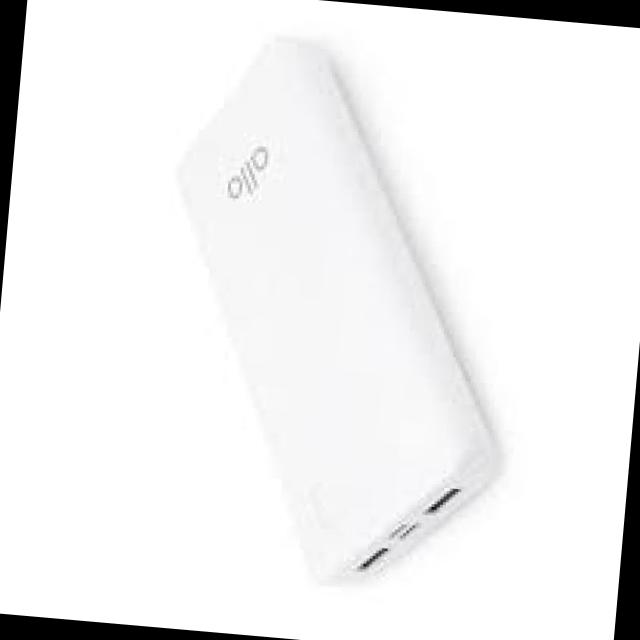power_bank: (137, 26, 533, 604)
